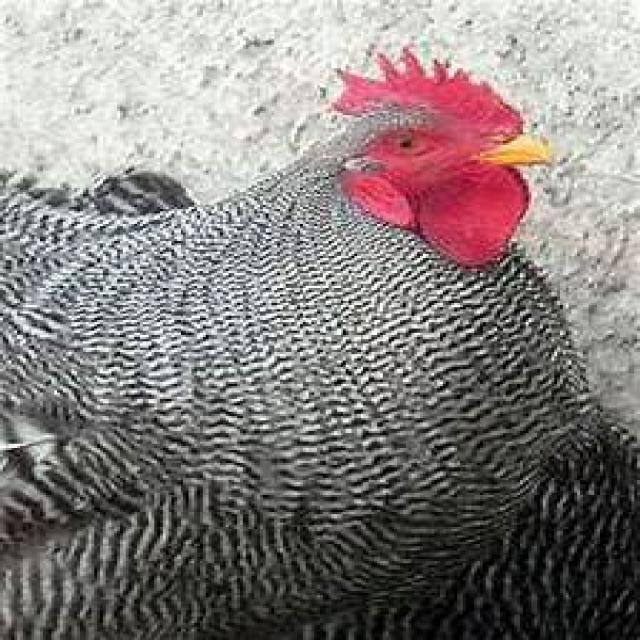animal: (0, 42, 637, 637)
